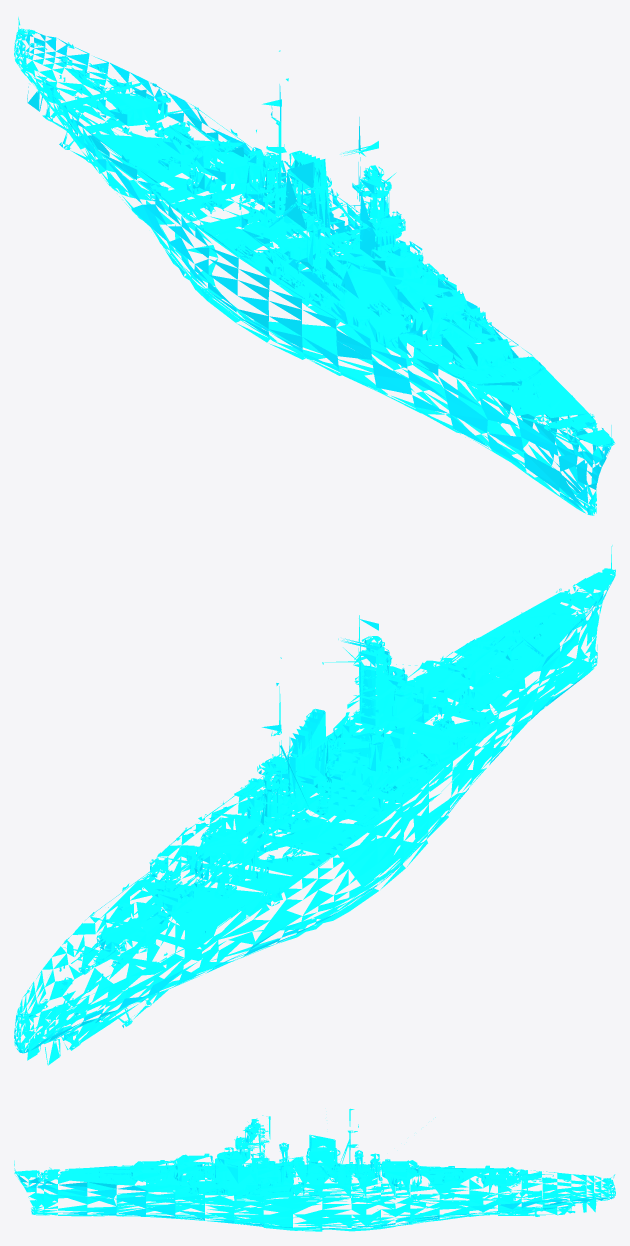
Rendered from Prinz_Rupprecht.glb.
3 views of the same model, one above another, from view 1: azimuth 30°, elevation 25°; view 2: azimuth 150°, elevation 25°; view 3: azimuth 270°, elevation 25° (orthographic). The views are drawn at different scales.
Bounding box in the file's own units: 2.29 × 3.61 × 16.4.
